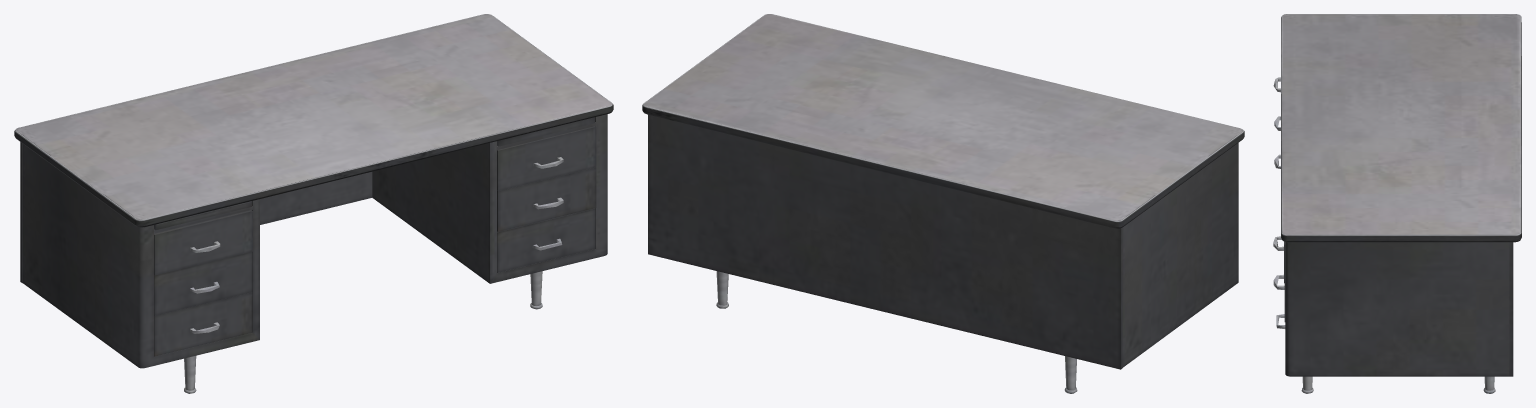
The model's file is metal_office_desk.glb.
3 views of the same model, side by side, from view 1: azimuth 30°, elevation 25°; view 2: azimuth 150°, elevation 25°; view 3: azimuth 270°, elevation 25° (orthographic). The views are drawn at different scales.
Parts seen in each view (by area): view 1: metal_office_desk, metal_office_desk_drawer_04, metal_office_desk_drawer_01, metal_office_desk_drawer_02, metal_office_desk_drawer_03, metal_office_desk_drawer_06, metal_office_desk_drawer_05, metal_office_desk_tray_02, metal_office_desk_tray_01; view 2: metal_office_desk; view 3: metal_office_desk.
Part boxes in pixels (left/top/right/bottom): metal_office_desk: left=14, top=14, right=613, bottom=393; metal_office_desk_drawer_04: left=154, top=210, right=252, bottom=275; metal_office_desk_drawer_01: left=497, top=126, right=596, bottom=191; metal_office_desk_drawer_02: left=497, top=167, right=596, bottom=231; metal_office_desk_drawer_03: left=497, top=208, right=595, bottom=272; metal_office_desk_drawer_06: left=154, top=292, right=252, bottom=356; metal_office_desk_drawer_05: left=154, top=251, right=252, bottom=315; metal_office_desk_tray_02: left=497, top=117, right=594, bottom=146; metal_office_desk_tray_01: left=154, top=201, right=252, bottom=230; metal_office_desk: left=642, top=14, right=1244, bottom=393; metal_office_desk: left=1281, top=14, right=1521, bottom=393.
Size of the model in its own units: 2 by 0.7874 by 0.947.
Materials: 1 (1 with a texture image).
